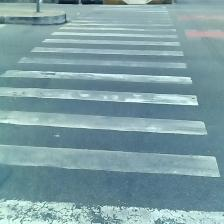crosswalk: (56, 26, 172, 224)
